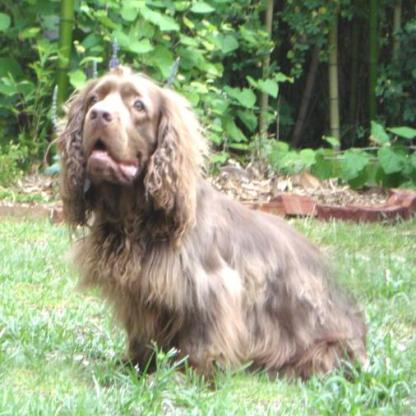Sussex_spaniel: (53, 61, 366, 388)
